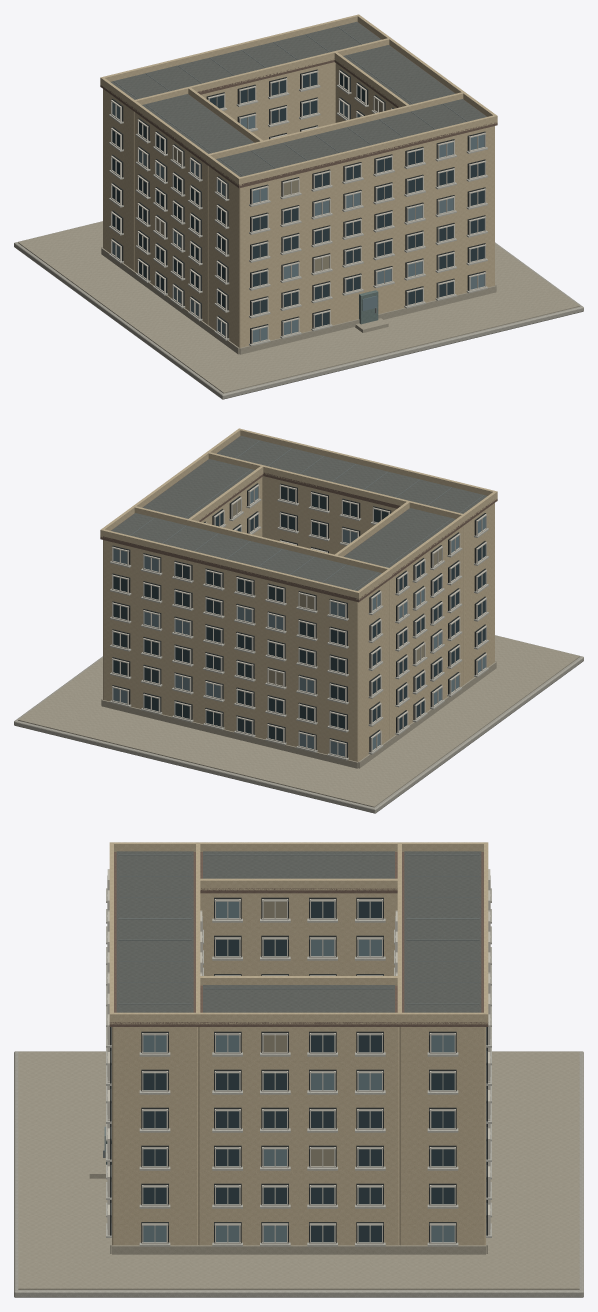
File: EXP_PALAZZO_COURT.glb
3 views of the same model, one above another, from view 1: azimuth 30°, elevation 25°; view 2: azimuth 150°, elevation 25°; view 3: azimuth 270°, elevation 25° (orthographic). The views are drawn at different scales.
Visible parts, largest first — view 1: EXP_PALAZZO_COURT_Visual; view 2: EXP_PALAZZO_COURT_Visual; view 3: EXP_PALAZZO_COURT_Visual.
Part boxes in pixels (<box>): EXP_PALAZZO_COURT_Visual: <box>14,14,583,399</box>; EXP_PALAZZO_COURT_Visual: <box>14,428,583,813</box>; EXP_PALAZZO_COURT_Visual: <box>14,842,583,1297</box>.
Size of what is drawn, in the model's own units: 7.92 by 3.83 by 7.92.
Materials: 19 (13 with a texture image).
